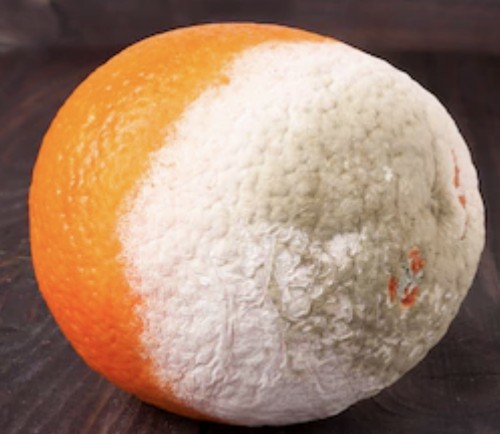rotten_orange: (30, 24, 487, 422)
